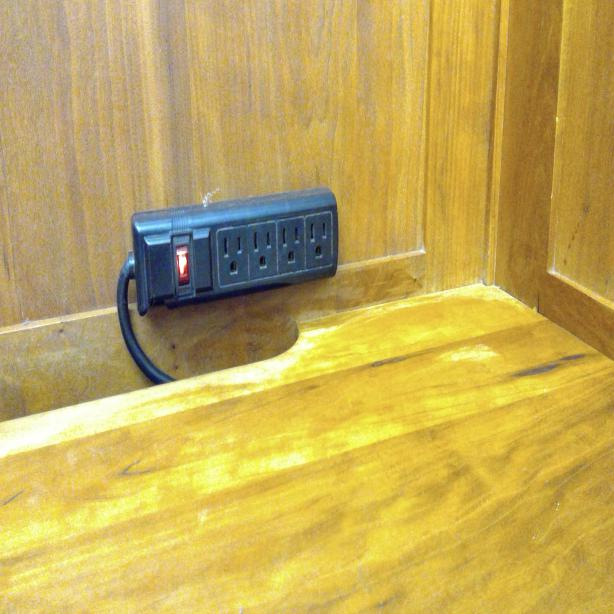typeb: (214, 225, 246, 284), (248, 222, 276, 277), (307, 209, 334, 264), (281, 217, 304, 277)
